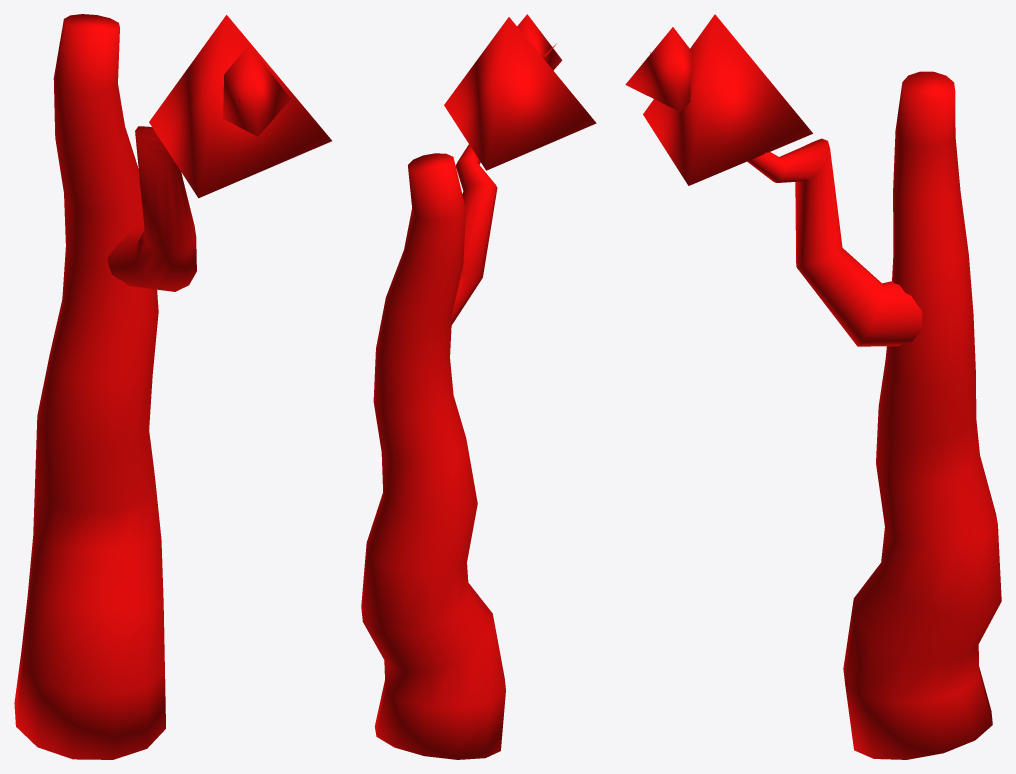
The model's file is ChristianTree.fbx.
The picture shows the model from 3 angles, left to right: view 1: azimuth 30°, elevation 25°; view 2: azimuth 150°, elevation 25°; view 3: azimuth 270°, elevation 25°; orthographic projection. The views are drawn at different scales.
Visible parts, largest first — view 1: merge1; view 2: merge1; view 3: merge1.
Boxes of the visible parts, left/top/right/bottom form: merge1: left=14, top=14, right=331, bottom=759; merge1: left=361, top=14, right=596, bottom=759; merge1: left=625, top=14, right=1001, bottom=759.
Bounding box in the file's own units: 5.44 × 22.37 × 10.3.
